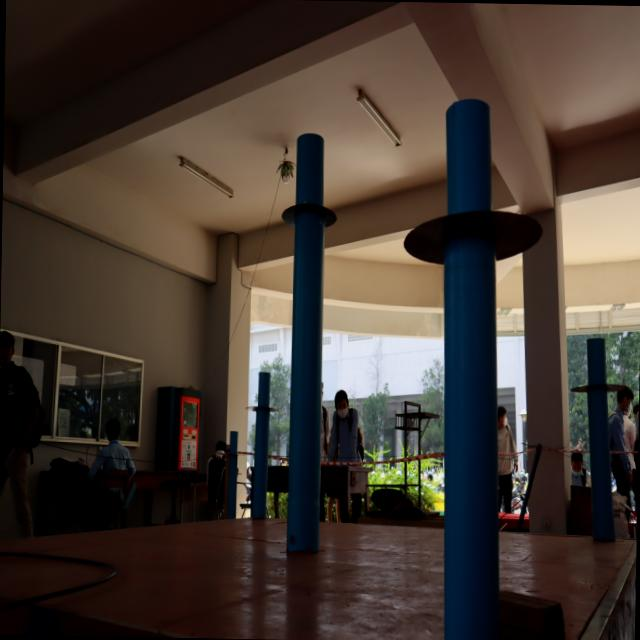pole: (403, 99, 551, 326), (276, 124, 342, 306), (566, 332, 628, 424), (248, 368, 282, 432), (220, 420, 248, 473)
